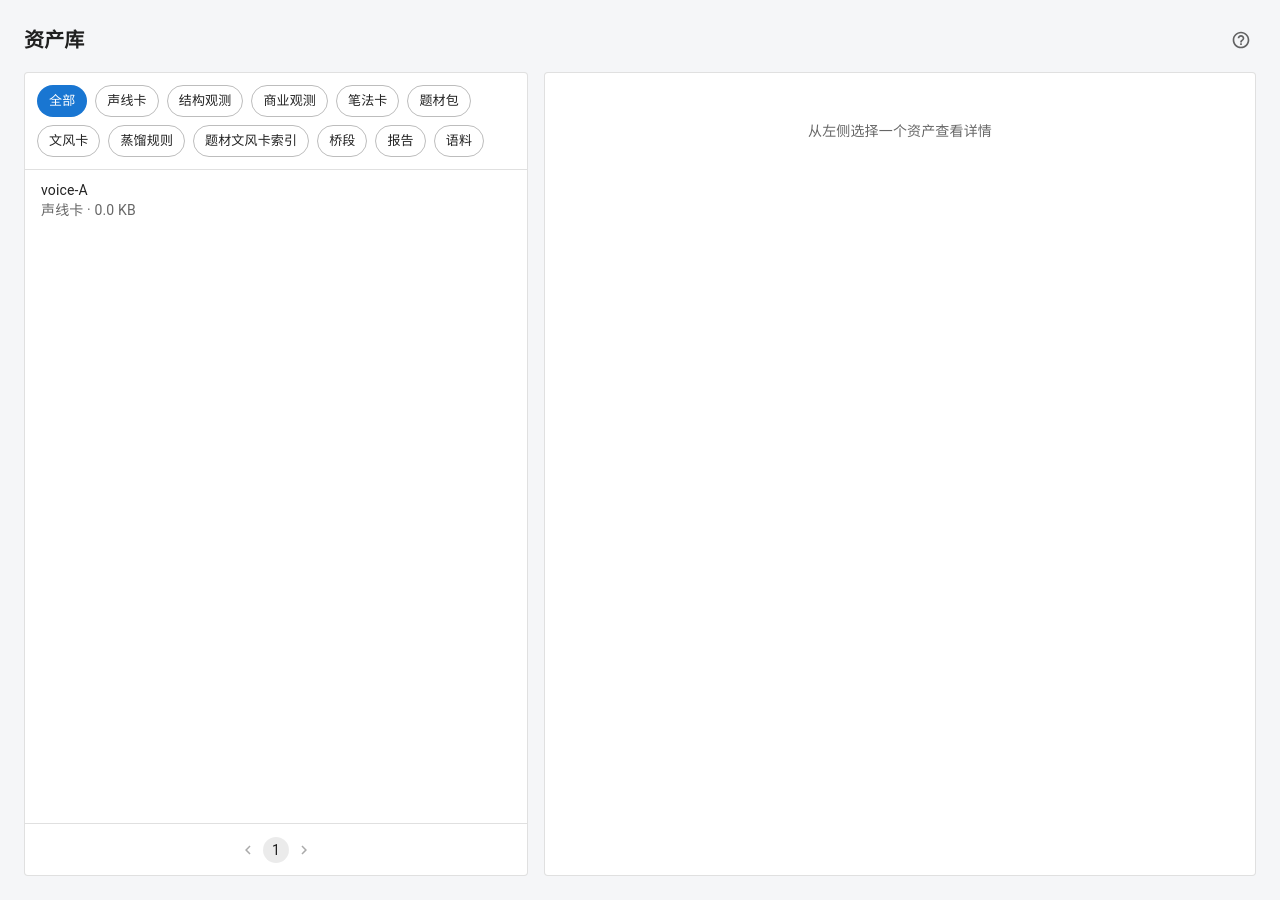
Test: 资产库详情可读摘要 › 默认显示中文摘要，原始 JSON 收进"高级"折叠区
Click the text "voice-A" at [64, 190], box [41,182,88,198]
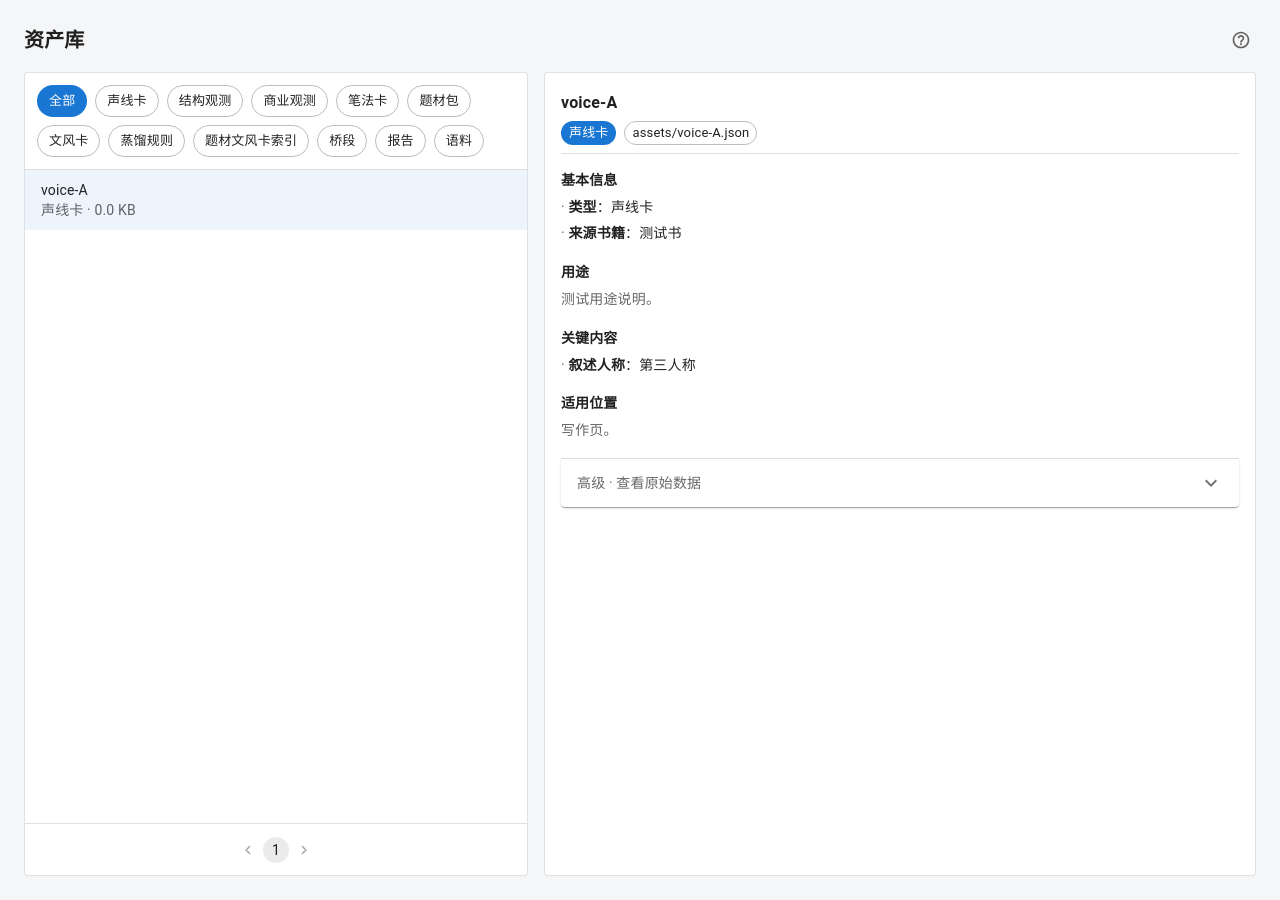
Result: the heading "基本信息" is shown at [561,172,617,188]
Result: the text "测试用途说明。" is shown at [561,291,660,307]
Result: the text "叙述人称" is shown at [568,357,625,373]
// 展开后可见原始 JSON。
Click the button "高级 · 查看原始数据" at [639, 483], box [577,471,1223,495]
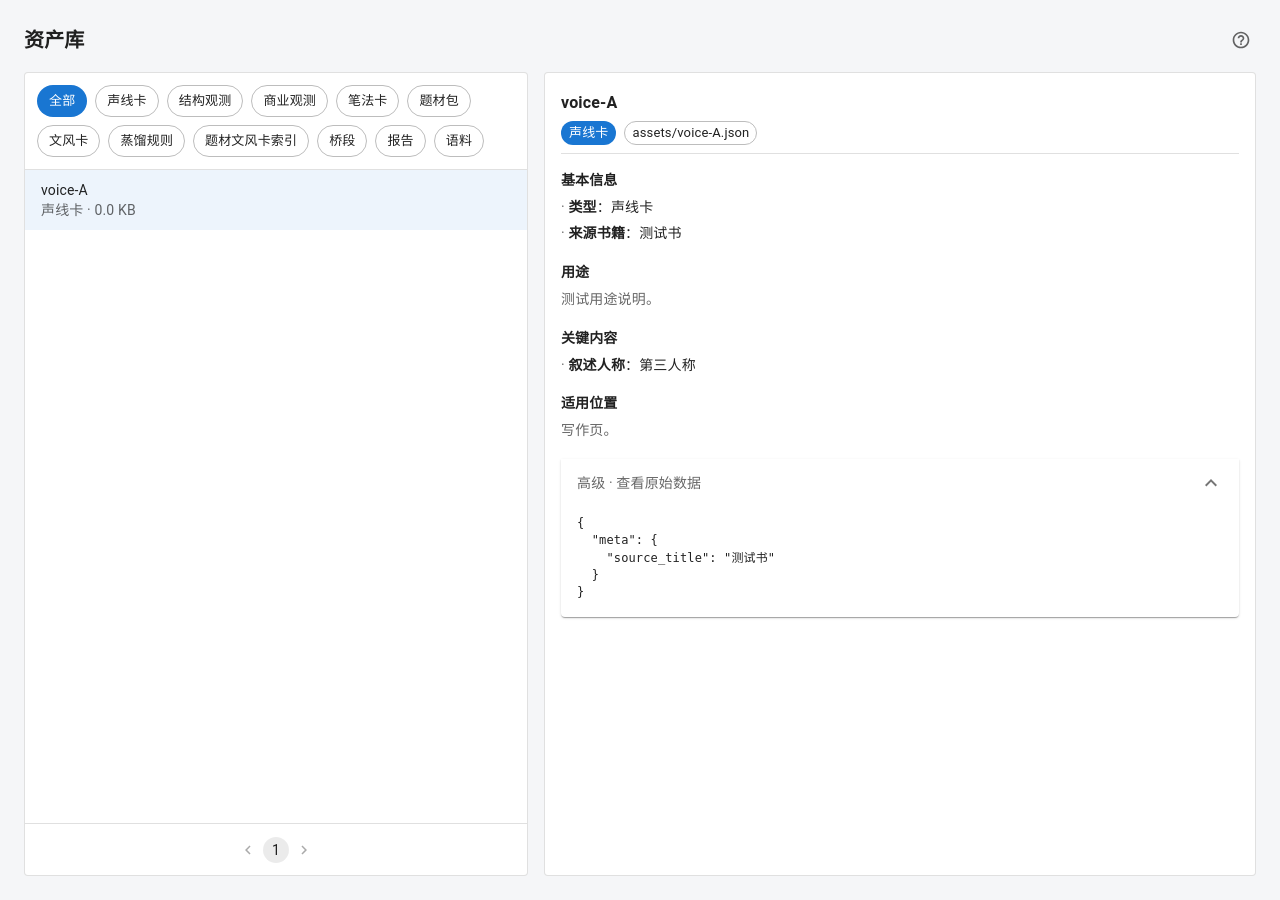
Result: the button "高级 · 查看原始数据" is expanded at [577,471,1223,495]
Result: the text "{ \"meta\": { \"source_title\": \"测试书\" } }" is shown at [577,516,775,599]
